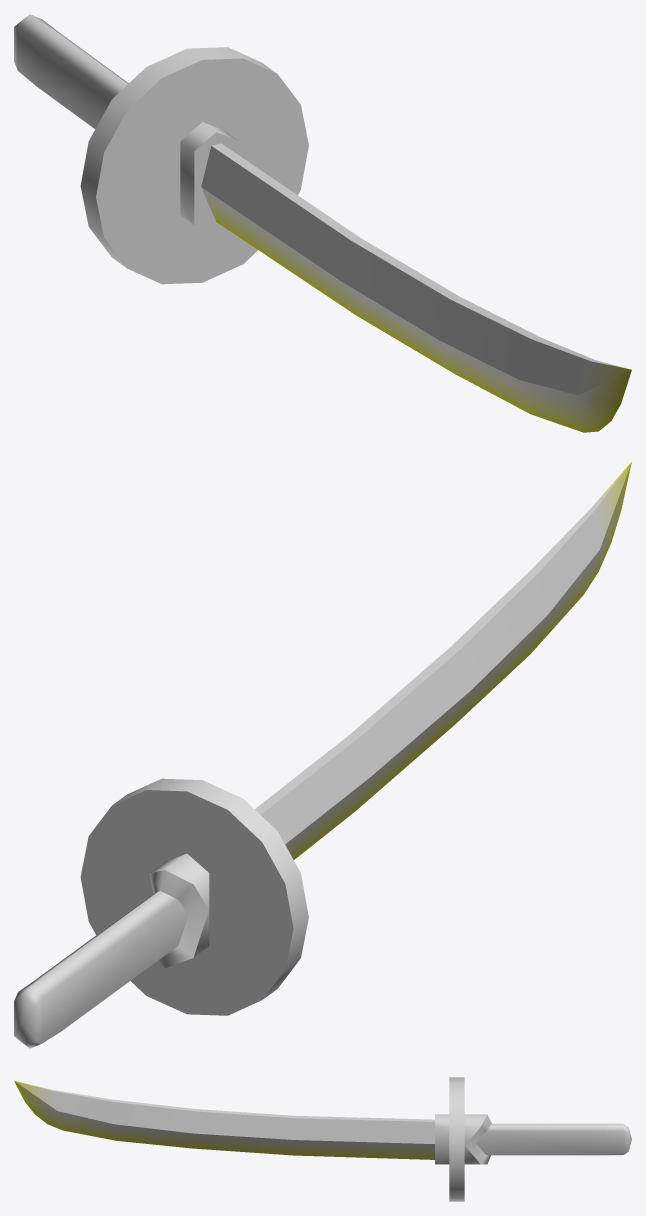
The picture shows the model from 3 angles, top to bottom: view 1: azimuth 30°, elevation 25°; view 2: azimuth 150°, elevation 25°; view 3: azimuth 270°, elevation 25°; orthographic projection. The views are drawn at different scales.
Parts seen in each view (by area): view 1: mKatana; view 2: mKatana; view 3: mKatana.
Part boxes in pixels (<box>): mKatana: <box>14,14,631,432</box>; mKatana: <box>14,461,631,1048</box>; mKatana: <box>14,1077,631,1201</box>.
Size of the model in its own units: 0.1818 by 0.1855 by 0.9017.
